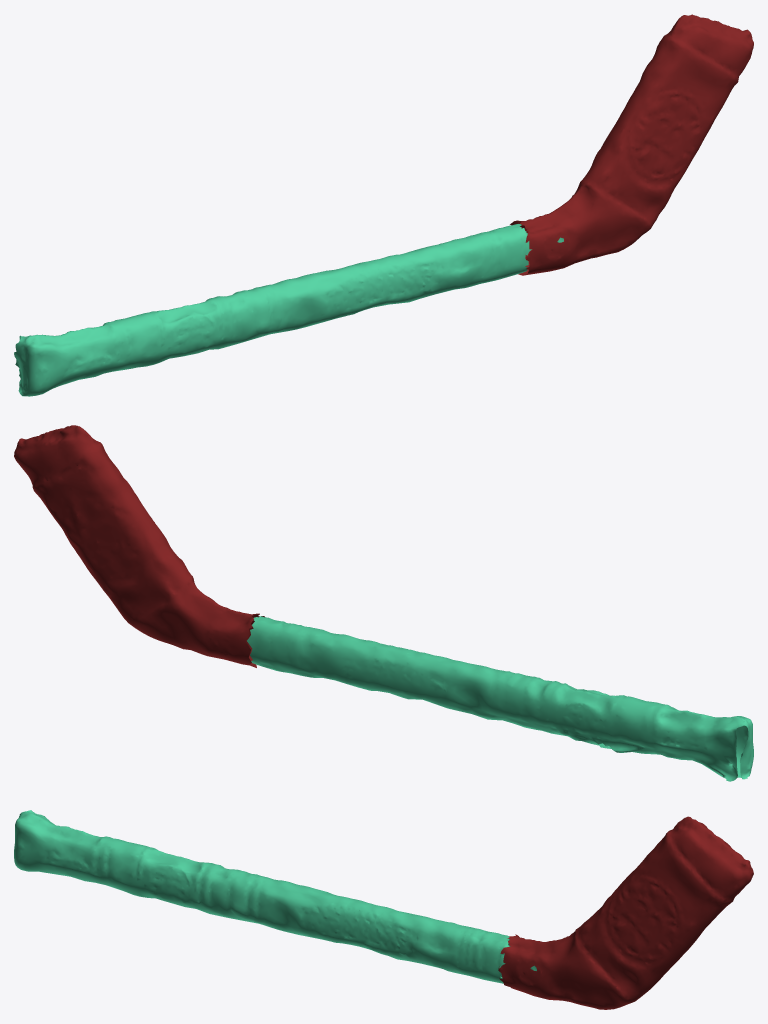
The model's file is object_deformed_4.obj.
The picture shows the model from 3 angles, top to bottom: view 1: azimuth 30°, elevation 25°; view 2: azimuth 150°, elevation 25°; view 3: azimuth 330°, elevation 25°; orthographic projection. The views are drawn at different scales.
Bounding box in the file's own units: 0.6064 × 0.1649 × 0.0469.
